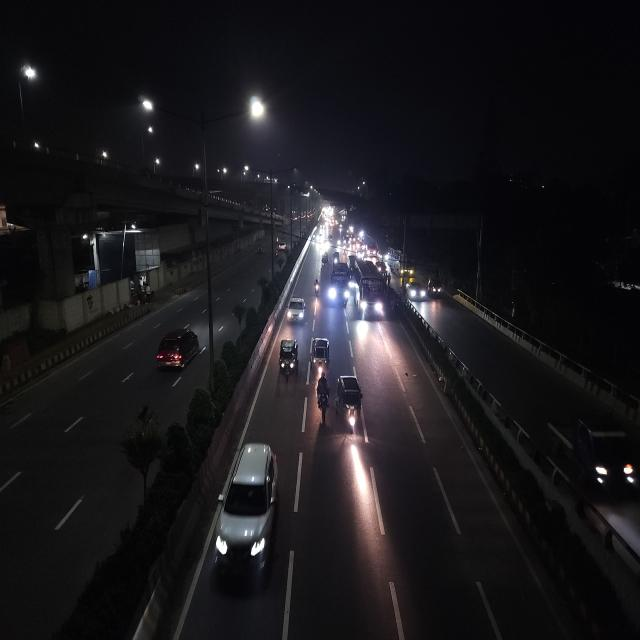bus: (351, 257, 385, 325), (328, 259, 349, 310), (390, 248, 414, 277)
car: (214, 437, 284, 595), (154, 321, 200, 376), (287, 295, 307, 326), (404, 280, 426, 302), (274, 238, 289, 255)
cng: (335, 372, 365, 436), (276, 335, 301, 381), (310, 334, 330, 376), (428, 278, 442, 299), (256, 244, 264, 255)
motorcycle: (313, 372, 331, 424), (312, 275, 321, 296)
pedestrian: (388, 273, 391, 287)
pickup_van: (550, 400, 640, 498)
